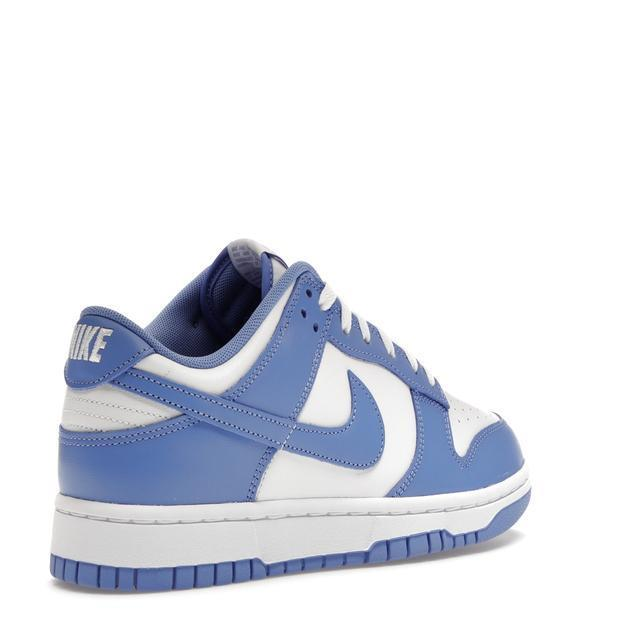J1_InsoleChar: (46, 236, 534, 594)
J1_StitchPattern: (224, 238, 502, 456), (46, 479, 532, 593), (58, 371, 381, 469), (319, 288, 501, 454), (50, 479, 533, 532), (321, 291, 449, 407), (59, 387, 180, 434), (65, 320, 114, 365)
